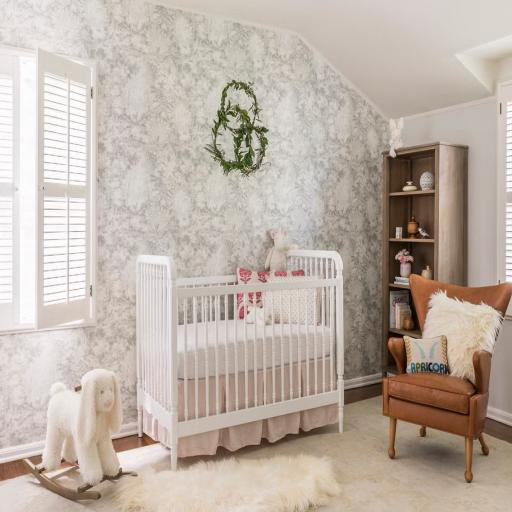crib: (137, 251, 343, 469)
